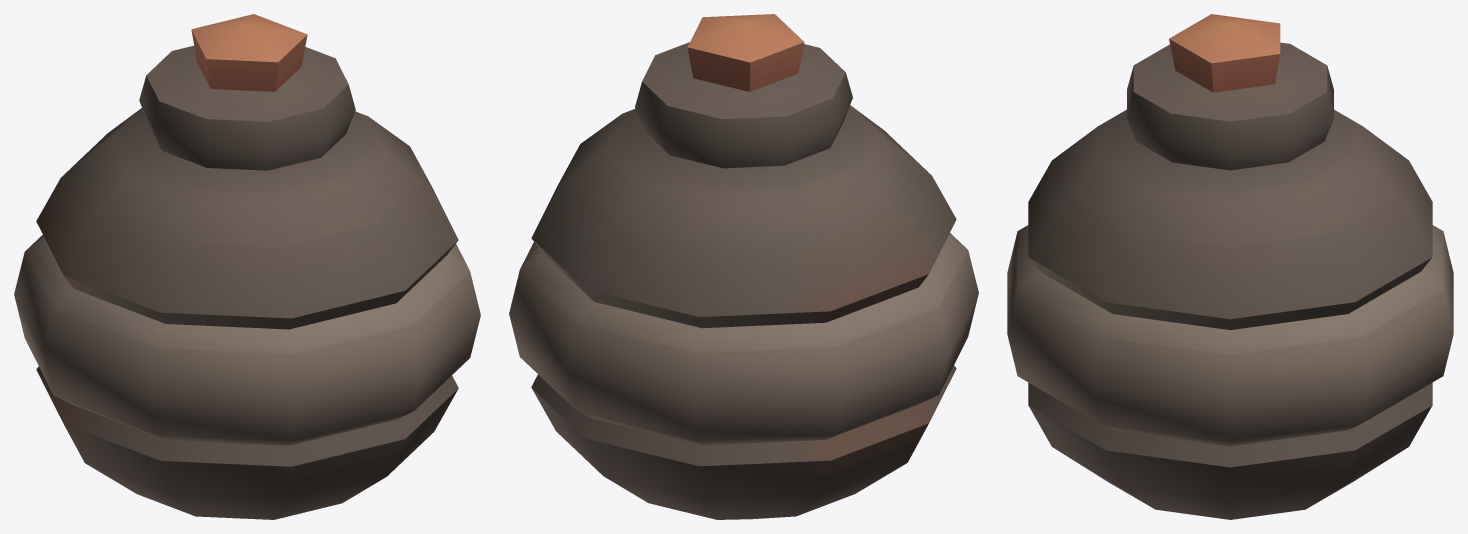
File: smokebomb.glb
3 renders of one model, left to right at view 1: azimuth 30°, elevation 25°; view 2: azimuth 150°, elevation 25°; view 3: azimuth 270°, elevation 25°, orthographic.
Visible parts, largest first — view 1: smokebomb; view 2: smokebomb; view 3: smokebomb.
Part boxes in pixels (<box>): smokebomb: <box>14,14,480,519</box>; smokebomb: <box>509,14,978,519</box>; smokebomb: <box>1007,14,1453,519</box>.
Bounding box in the file's own units: 0.3826 × 0.4231 × 0.3638.
1 material, 1 textured.
